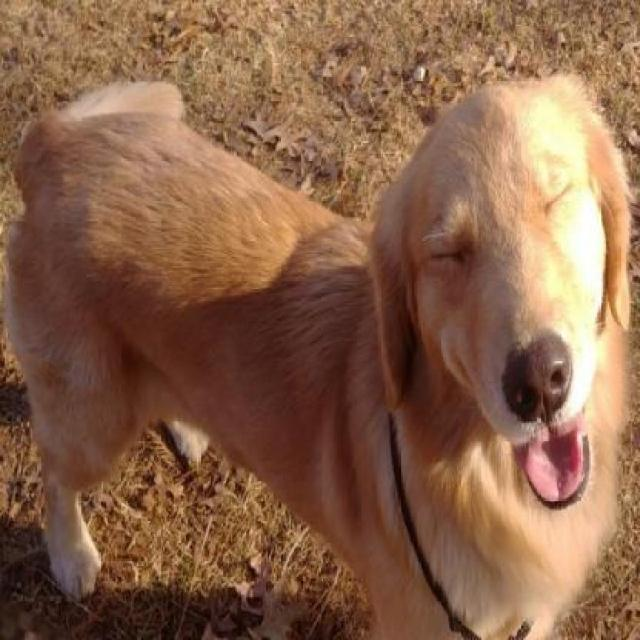Dog: (12, 59, 634, 638)
